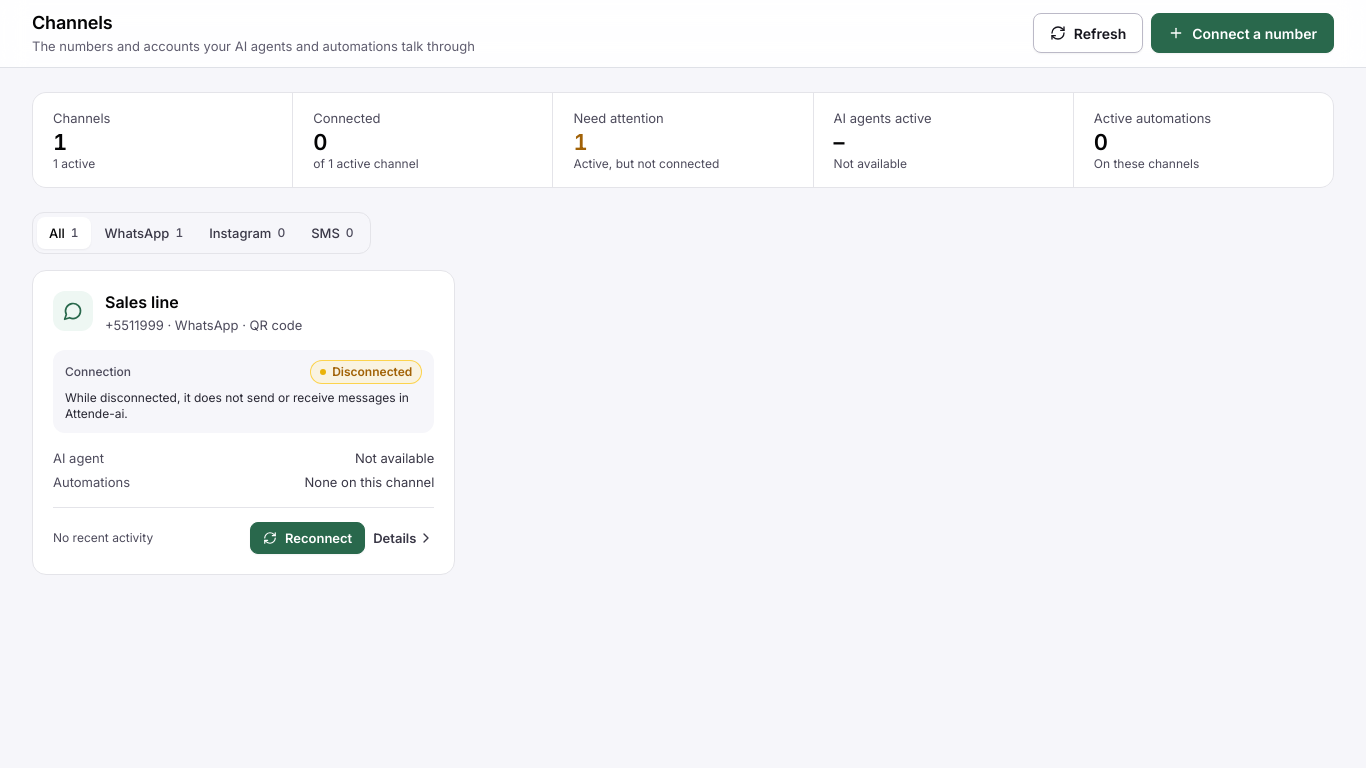
Test: LinesView › offers Reconnect only for QR WhatsApp lines that dropped
Click the button with aria-label "Details of Sales line": [142, 302] box [105,291,179,314]
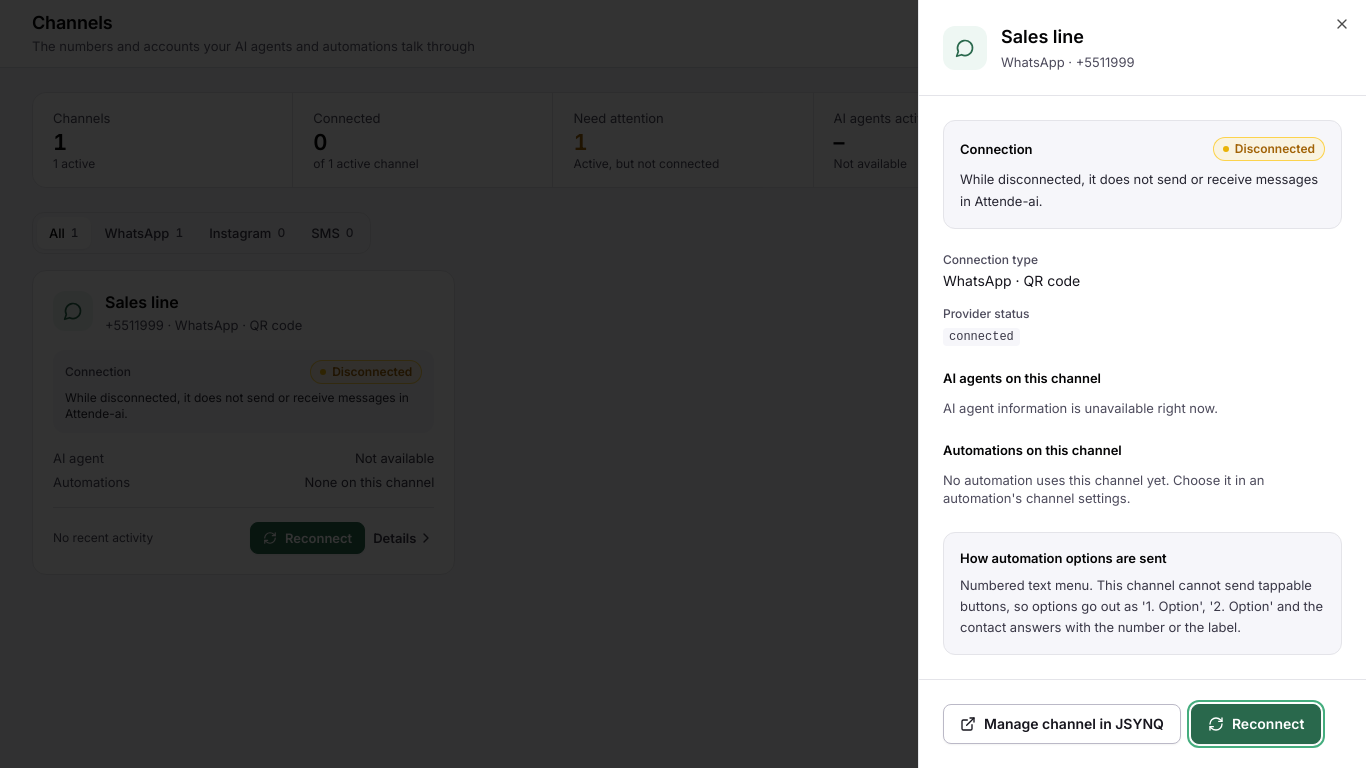
Now the button "Reconnect" is shown, box [1191,704,1321,744]
